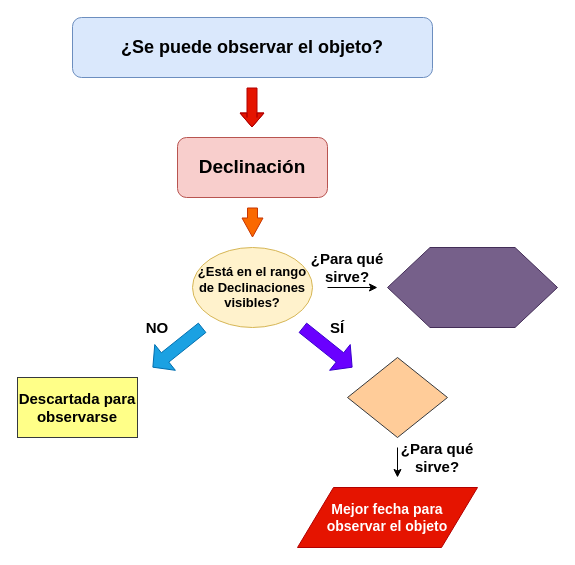
This 575x565 diagram has some shape labels left out. Each missing label, with the box of its shape:
Altura sobre el horizonte del objeto: (386, 246, 558, 328)
Ascensión Recta: (346, 356, 448, 438)
